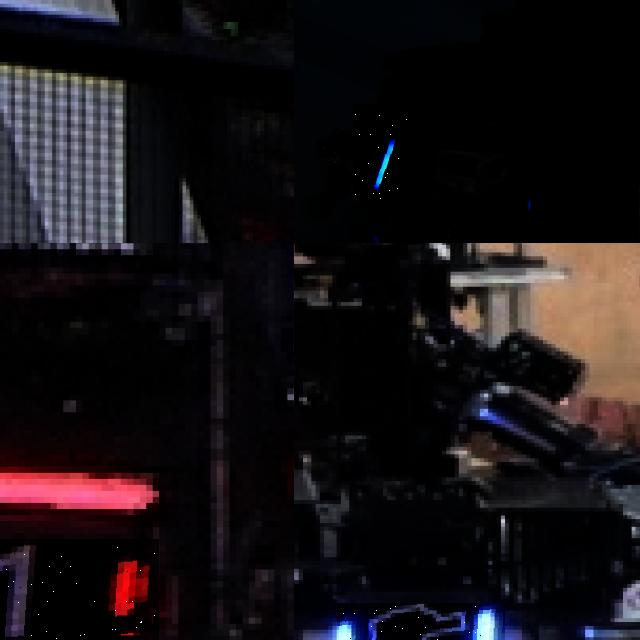Bs: (336, 603, 505, 640), (353, 104, 409, 199)
R1: (0, 539, 159, 640)
